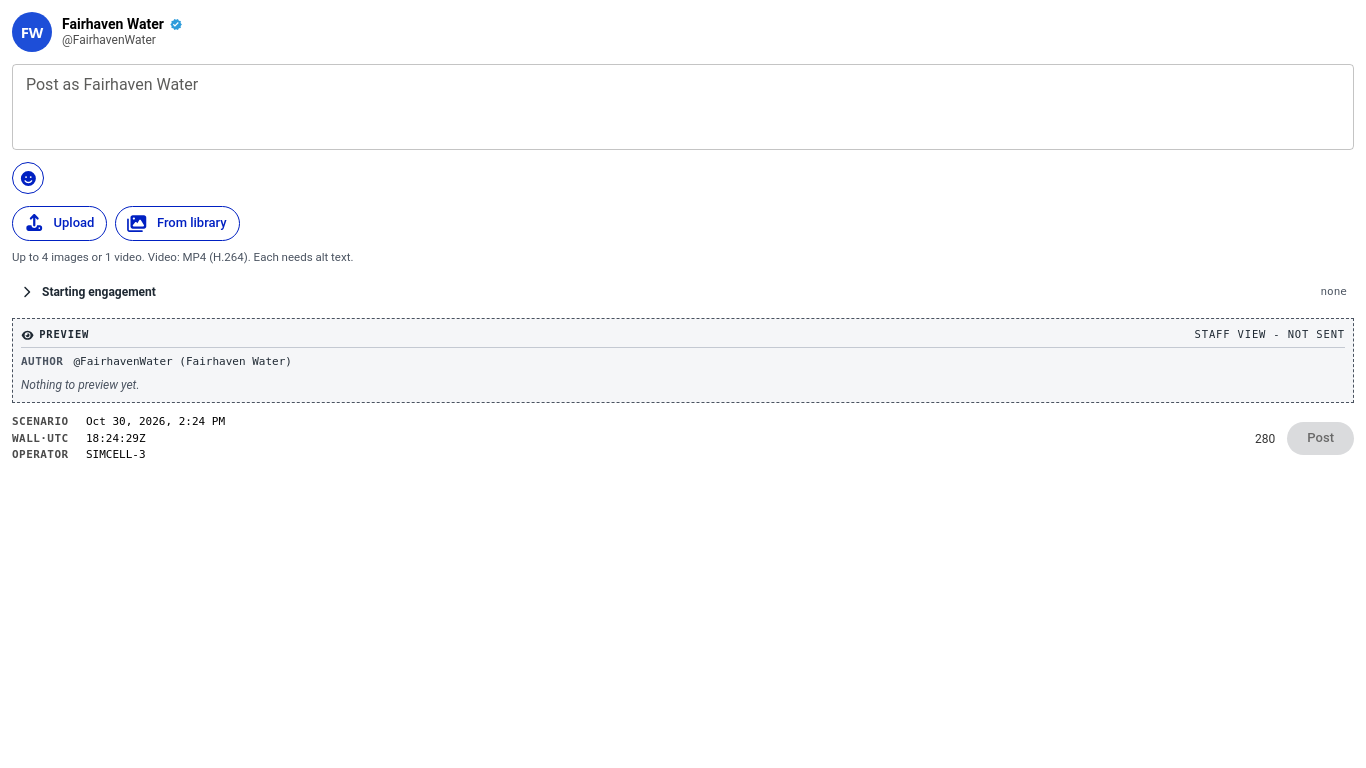
PersonaComposer (live) — failure is visible, keeps the draft, never claims success › Retry re-sends the same draft; success replaces the banner with "Posted"
Step 1. Type "Second time lucky." into the text box labelled "Post as Fairhaven Water" → (683, 107), box left=26, top=72, right=1340, bottom=142
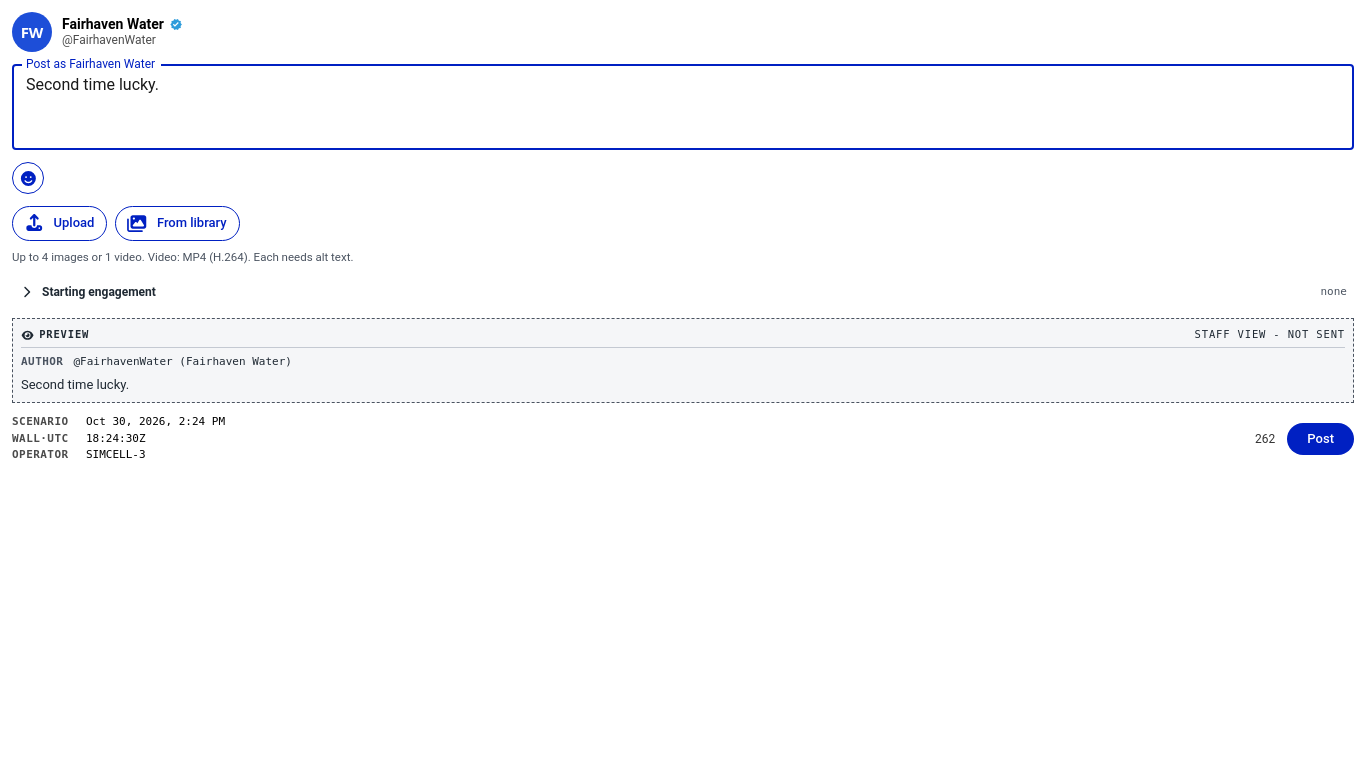
Step 2. Click the button "Post" → (1321, 439), box left=1287, top=422, right=1354, bottom=455
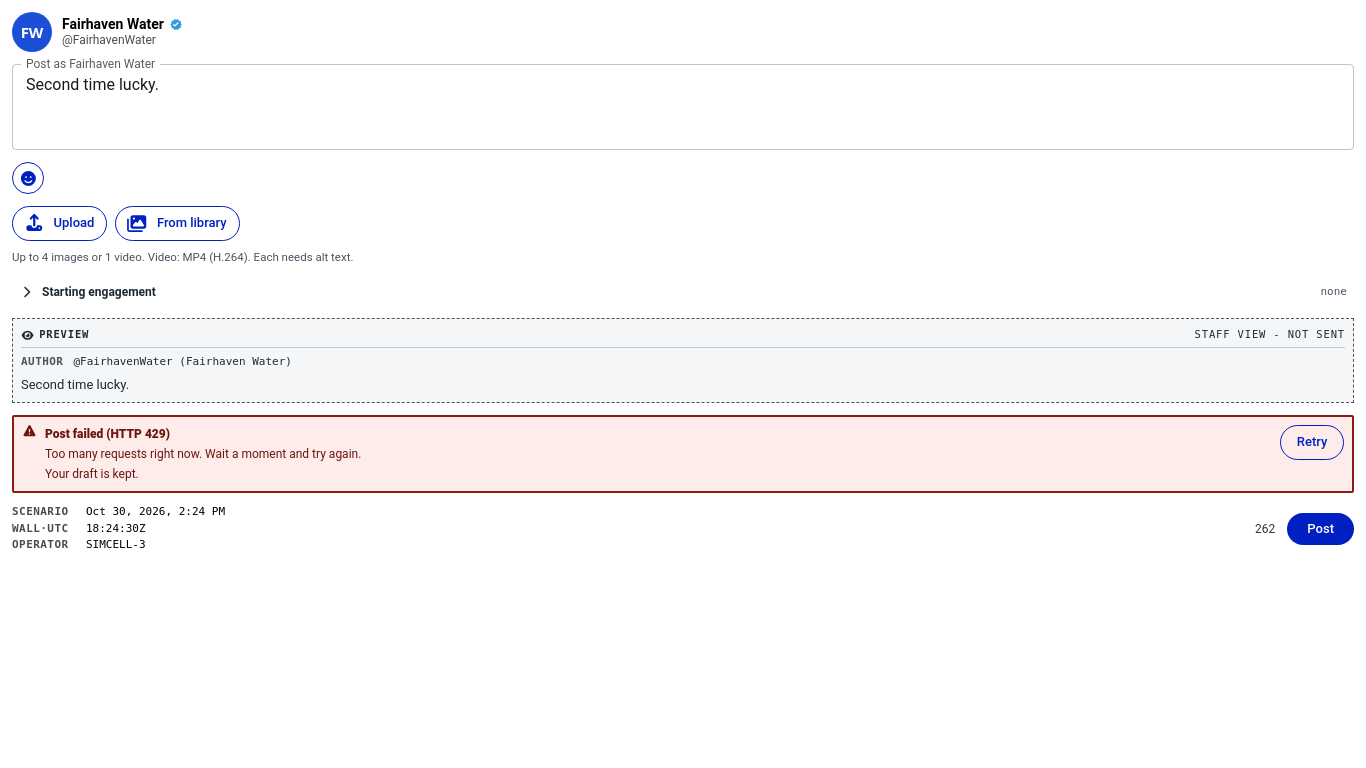
expect the message with test id "publish-error" shows "Too many requests right now. Wait a moment and try again.": met, box left=45, top=447, right=361, bottom=461
Step 3. Click the button "Retry" → (1312, 443), box left=1280, top=425, right=1344, bottom=460
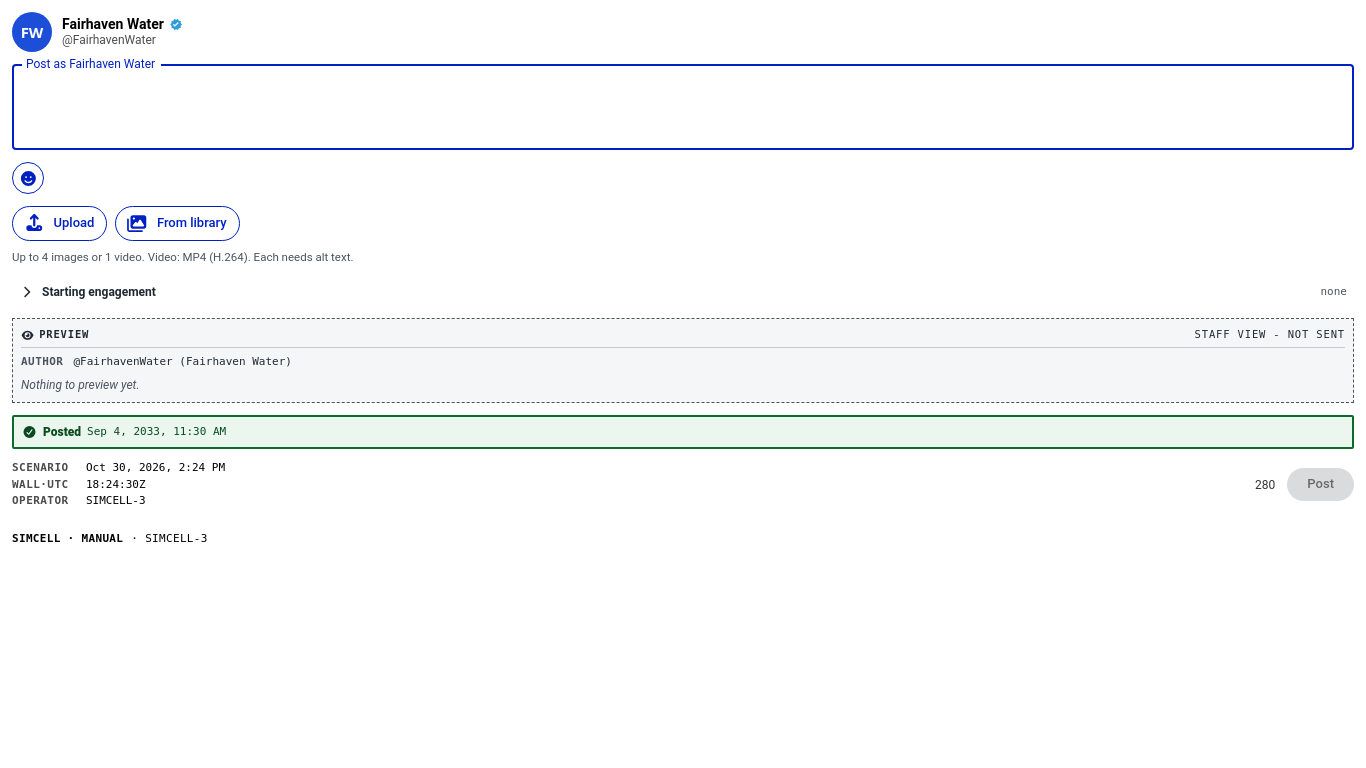
expect the message "Posted Sep 4, 2033, 11:30 AM" is shown: met, box left=12, top=415, right=1354, bottom=449
expect the message with test id "publish-error" is gone: met
